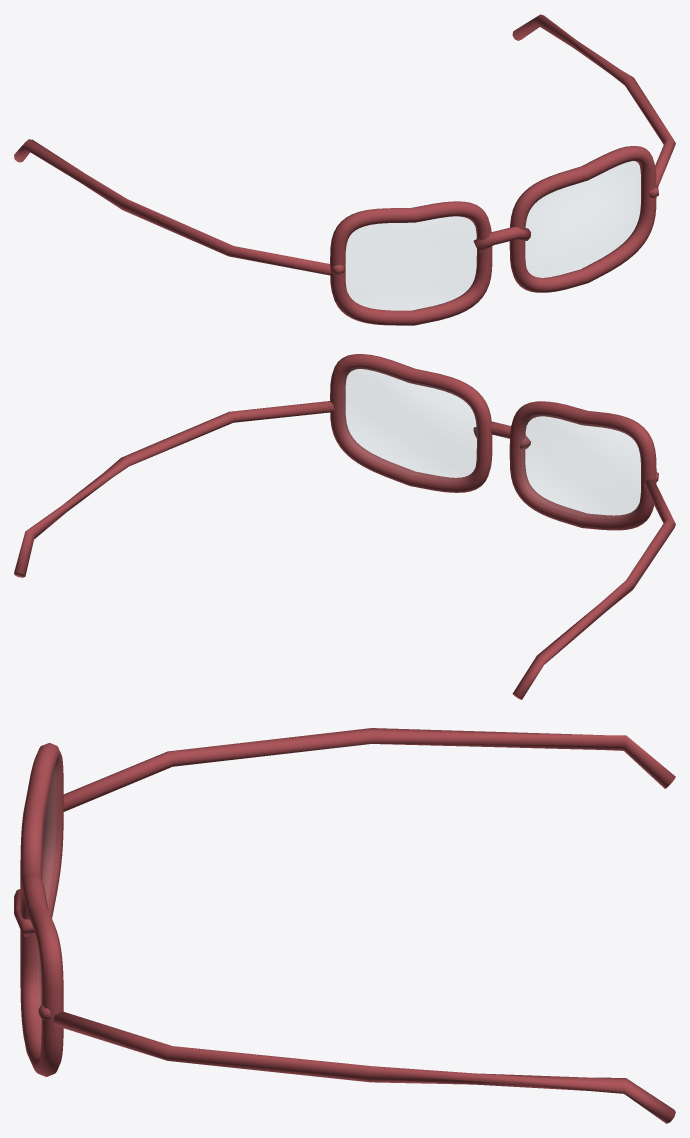
Rendered from 06-cherry-cat-eye.glb.
3 renders of one model, top to bottom at view 1: azimuth 30°, elevation 25°; view 2: azimuth 150°, elevation 25°; view 3: azimuth 270°, elevation 25°, orthographic. The views are drawn at different scales.
Parts seen in each view (by area): view 1: Glasses06_Lens-12, Glasses06_Lens14, Glasses06_Rim-11, Glasses06_Rim13, Glasses06_Temple-16, Glasses06_Temple18, Glasses06_Bridge5; view 2: Glasses06_Lens14, Glasses06_Lens-12, Glasses06_Rim13, Glasses06_Rim-11, Glasses06_Temple18, Glasses06_Temple-16; view 3: Glasses06_Temple-16, Glasses06_Temple18, Glasses06_Rim13, Glasses06_Rim-11, Glasses06_Lens-12.
Boxes of the visible parts, x1,y1,x2,y2 form: Glasses06_Lens-12: [346, 217, 476, 309]; Glasses06_Lens14: [526, 161, 640, 277]; Glasses06_Rim-11: [330, 201, 492, 325]; Glasses06_Rim13: [509, 146, 656, 292]; Glasses06_Temple-16: [14, 139, 330, 275]; Glasses06_Temple18: [512, 14, 675, 187]; Glasses06_Bridge5: [473, 226, 530, 252]; Glasses06_Lens14: [342, 369, 476, 480]; Glasses06_Lens-12: [521, 416, 640, 518]; Glasses06_Rim13: [330, 354, 492, 492]; Glasses06_Rim-11: [509, 401, 656, 530]; Glasses06_Temple18: [14, 401, 334, 577]; Glasses06_Temple-16: [512, 479, 675, 699]; Glasses06_Temple-16: [63, 728, 675, 811]; Glasses06_Temple18: [52, 1011, 675, 1123]; Glasses06_Rim13: [20, 873, 63, 1076]; Glasses06_Rim-11: [20, 743, 63, 917]; Glasses06_Lens-12: [43, 765, 55, 903].
Size of the model in its own units: 0.6367 by 0.1438 by 0.5094.
